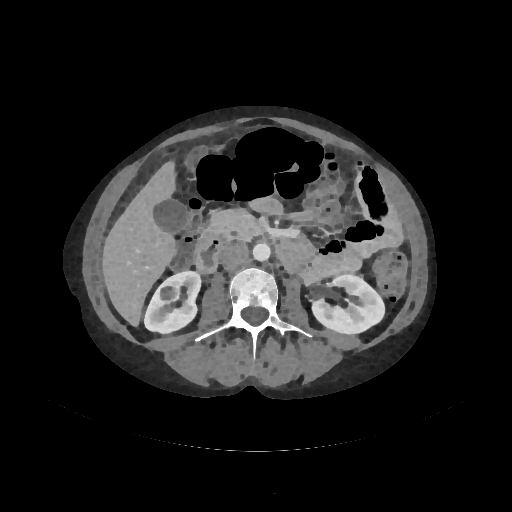Lesion: (156, 282, 180, 304)
